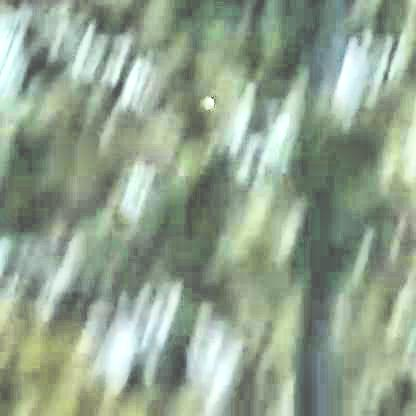golfball: (200, 93, 213, 106)
